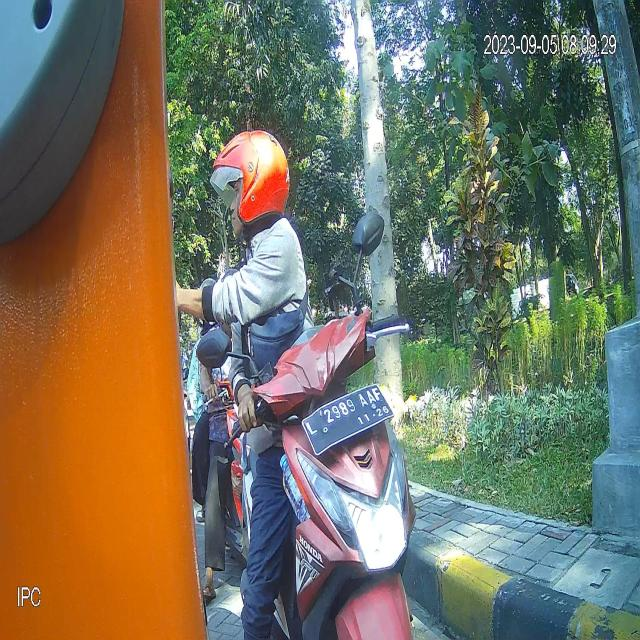license-plate: (300, 381, 396, 457)
